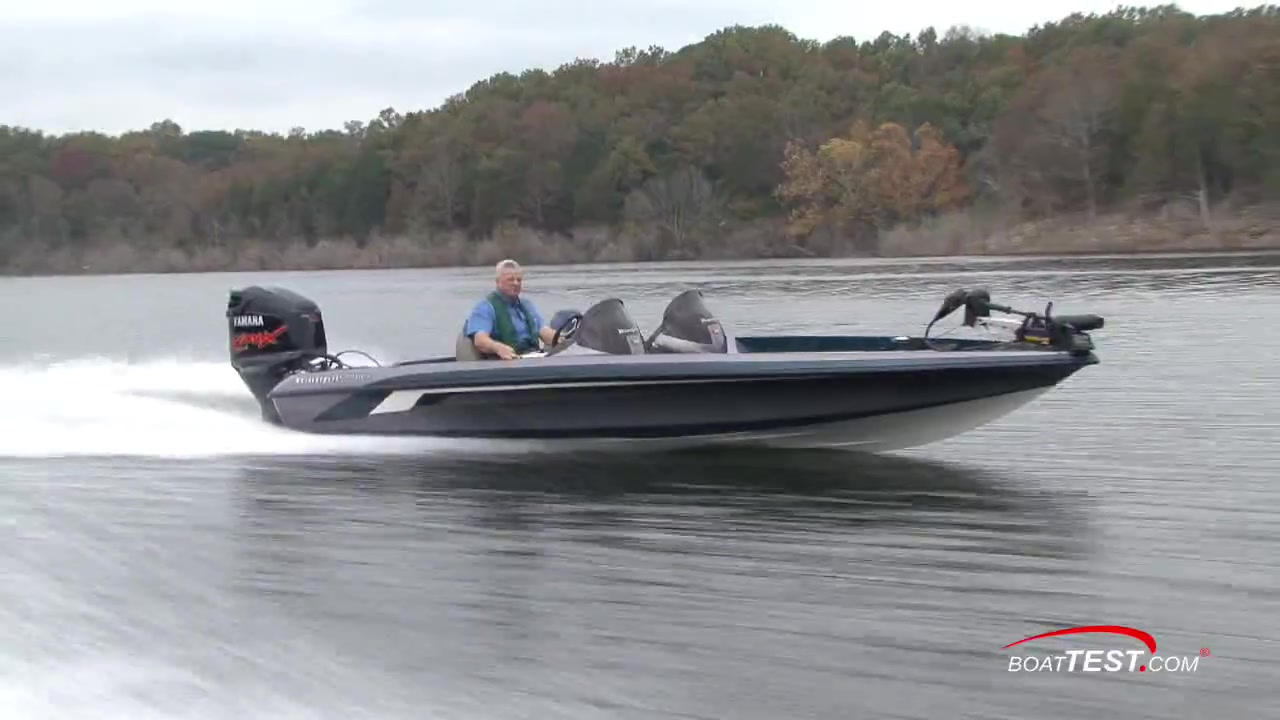boat: (221, 282, 1107, 459)
